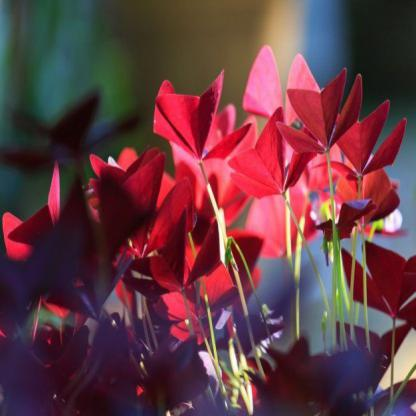Kupu-Kupu: (261, 66, 397, 197), (157, 76, 250, 180), (91, 142, 167, 260), (334, 235, 416, 314)
